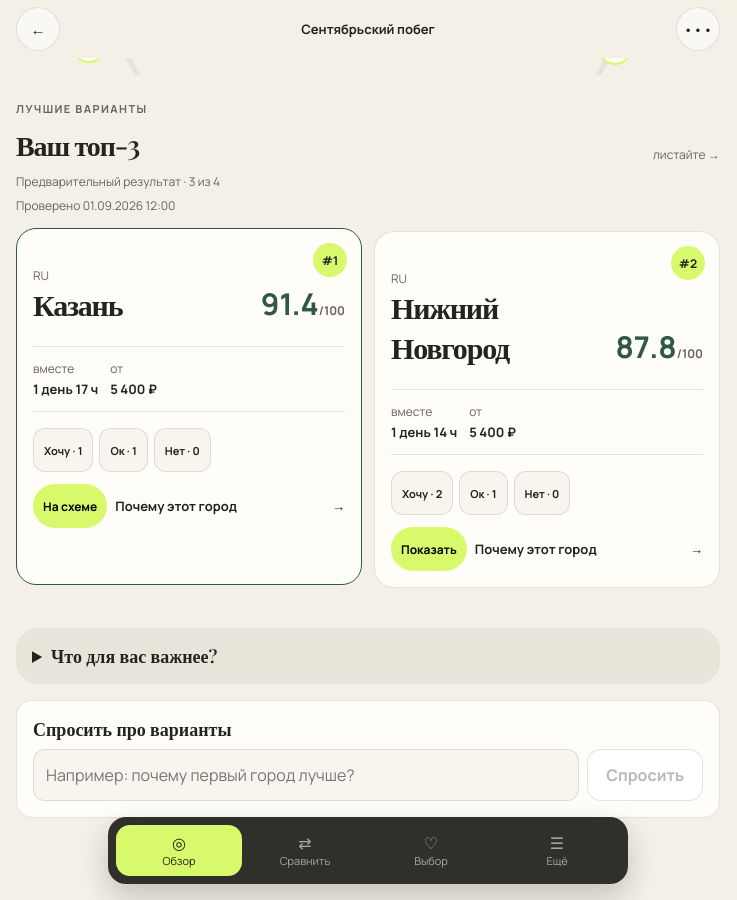
Scenario: core trip pages › adds and removes a reaction directly on a ranking card
This screenshot has width=737, height=900.
(page scrolled)
Check: the heading "Ваш топ-3" is shown, box [16, 126, 148, 163]
Click the button "Хочу · 1": (63, 450) [33, 428, 94, 472]
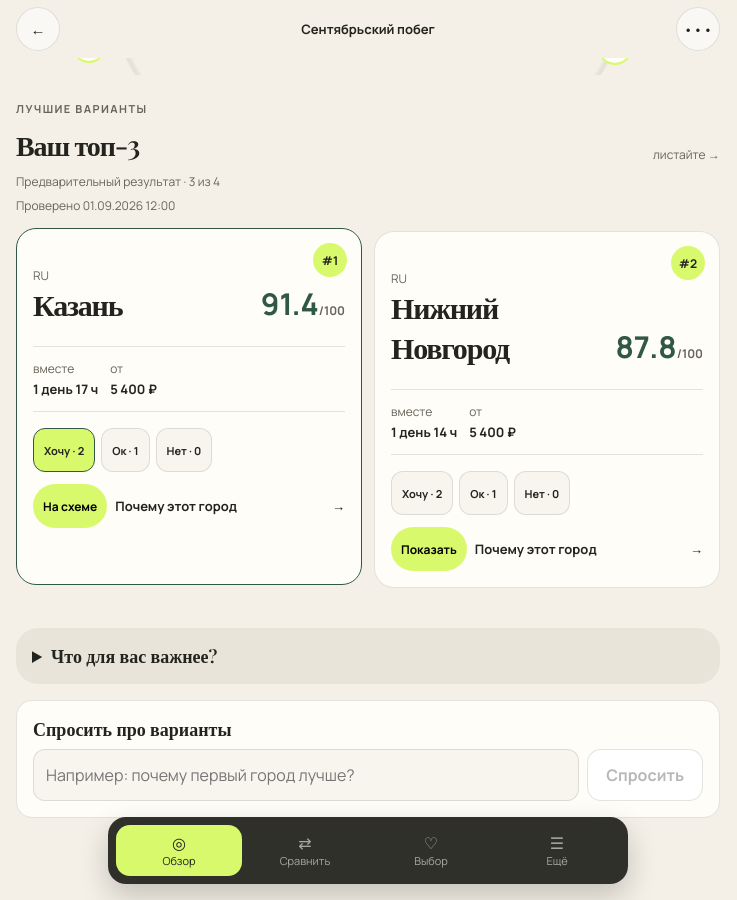
Check: the button "Хочу · 2" below "1 день 17 ч" is shown
Click the button "Хочу · 2" below "1 день 17 ч": (64, 450) [33, 428, 95, 472]
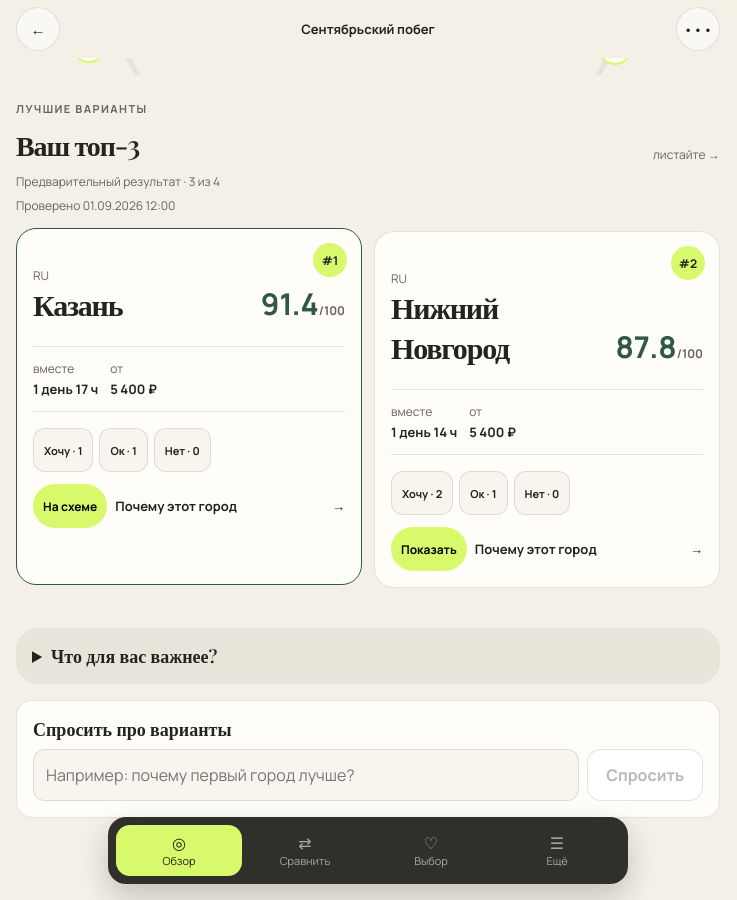
Check: the button "Хочу · 1" is shown, box [33, 428, 94, 472]
